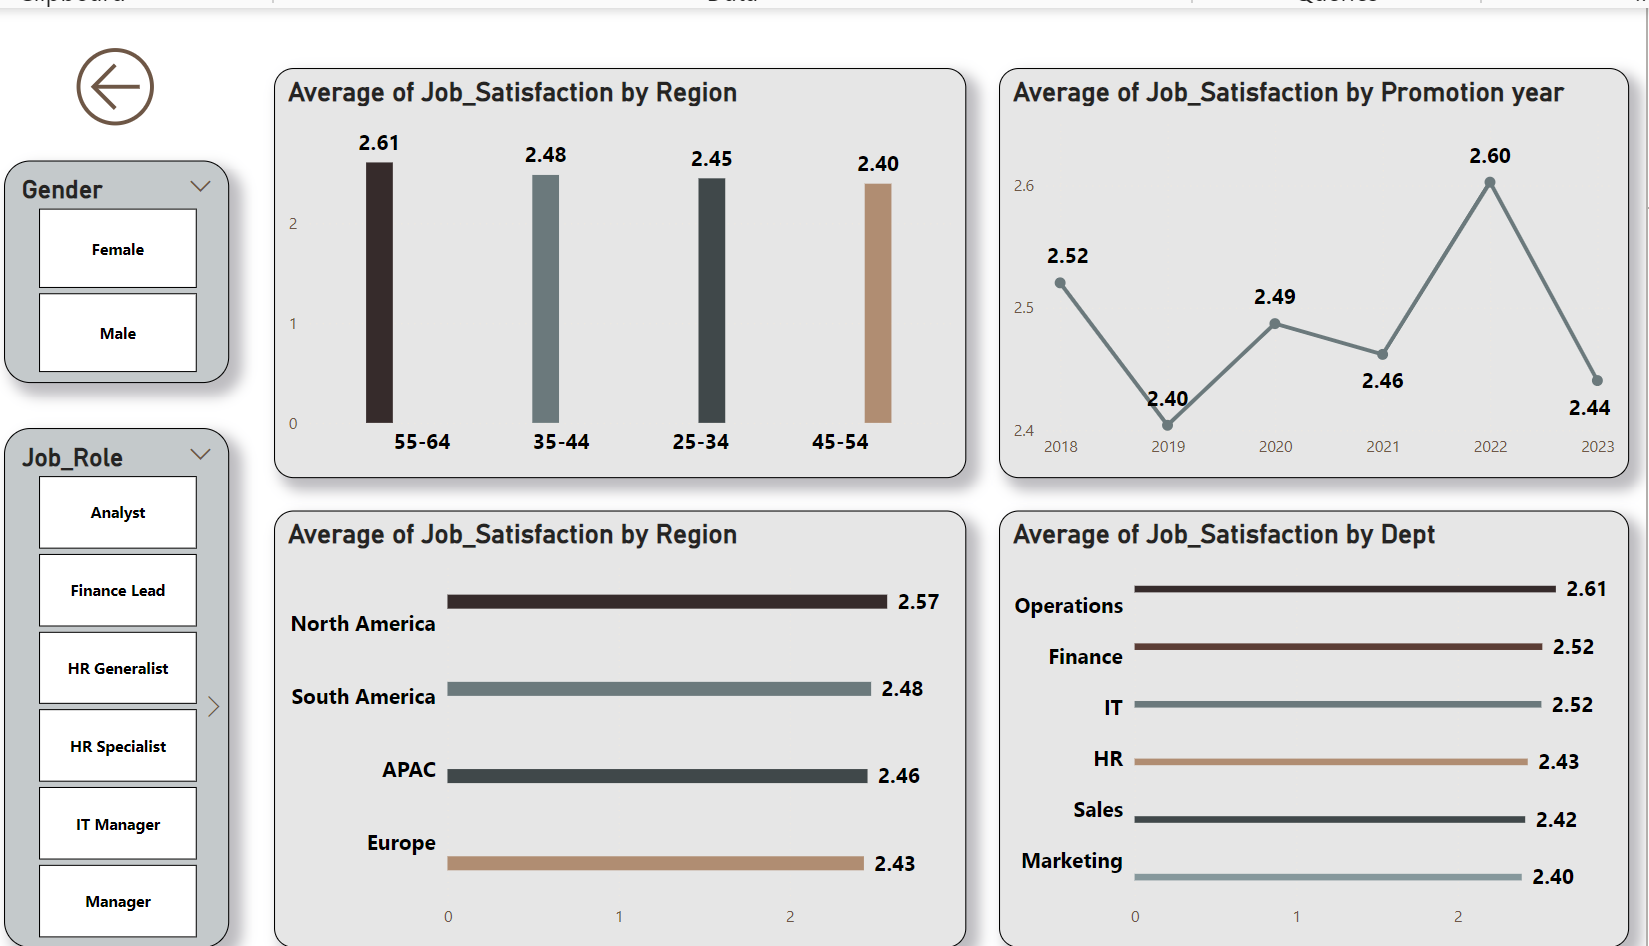

What the dashboard file says about the page in this screenshot:
{"tool":"powerbi","page":{"name":"Job Satisfaction analysis","canvas":[1280,720],"ordinal":3},"visuals":[{"type":"lineChart","title":"Average of Job_Satisfaction by Promotion year","fields":{"Category":["SP data.Promotion_Date.Variation.Date Hierarchy.Year"],"Y":["Avg(SP data.Job_Satisfaction)"]},"box":[784.7,45.9,482.3,313.9],"z":0},{"type":"clusteredBarChart","title":"Average of Job_Satisfaction by Dept","fields":{"Category":["SP data.Department"],"Y":["Avg(SP data.Job_Satisfaction)"],"Series":["SP data.Department"]},"box":[784.7,384.7,482.3,334.9],"z":1000},{"type":"clusteredBarChart","title":"Average of Job_Satisfaction by Region","fields":{"Category":["SP data.Region"],"Y":["Avg(SP data.Job_Satisfaction)"],"Series":["SP data.Region"]},"box":[229.7,384.7,530.1,334.9],"z":2000},{"type":"clusteredColumnChart","title":"Average of Job_Satisfaction by Region","fields":{"Y":["Avg(SP data.Job_Satisfaction)"],"Category":["SP data.Age_Group"],"Series":["SP data.Age_Group"]},"box":[229.7,45.9,530.1,313.9],"z":3000},{"type":"slicer","fields":{"Values":["SP data.Gender"]},"box":[23,116.7,172.2,170.3],"z":4000},{"type":"slicer","fields":{"Values":["SP data.Job_Role"]},"box":[23,321.5,172.2,398.1],"z":5000},{"type":"actionButton","box":[70.8,23,76.6,74.6],"z":6000}]}

Visuals, with their boxes on the page's 1280x720 design canvas (x1, y1, x2, y2). These are canvas units, not pixel positions in the 1649x946 screenshot, which may show the page scaled, cropped or inside an application window:
"Average of Job_Satisfaction by Promotion year" lineChart: (left=785, top=46, right=1267, bottom=360)
"Average of Job_Satisfaction by Dept" clusteredBarChart: (left=785, top=385, right=1267, bottom=720)
"Average of Job_Satisfaction by Region" clusteredBarChart: (left=230, top=385, right=760, bottom=720)
"Average of Job_Satisfaction by Region" clusteredColumnChart: (left=230, top=46, right=760, bottom=360)
slicer - SP data.Gender: (left=23, top=117, right=195, bottom=287)
slicer - SP data.Job_Role: (left=23, top=322, right=195, bottom=720)
actionButton: (left=71, top=23, right=147, bottom=98)
